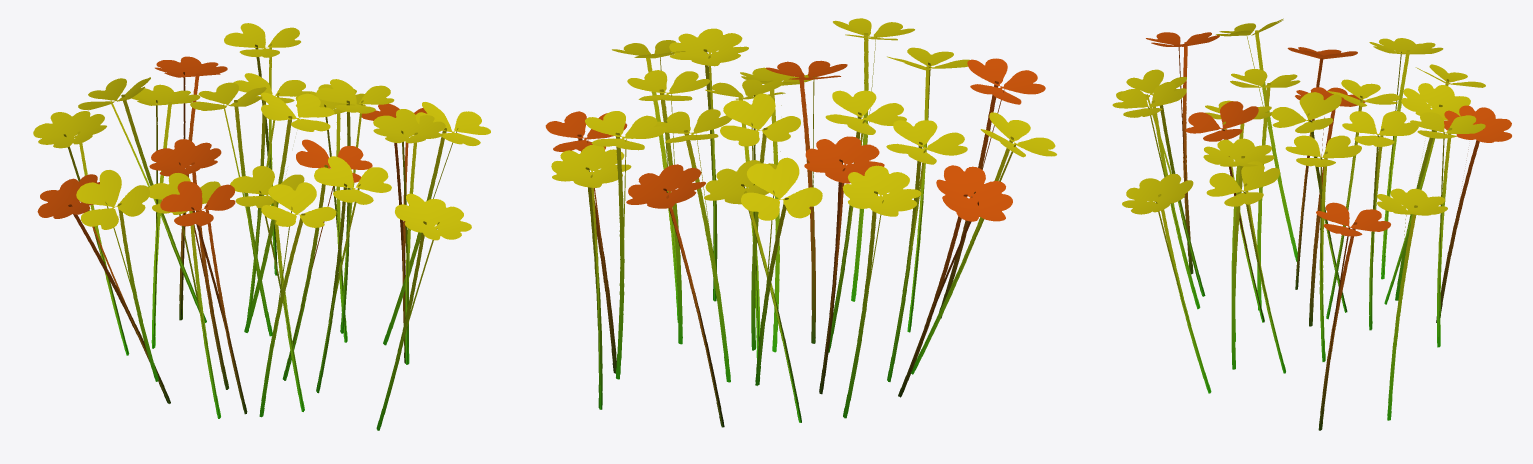
The model's file is CloverPatch_Mid_B.FBX.
3 renders of one model, left to right at view 1: azimuth 30°, elevation 25°; view 2: azimuth 150°, elevation 25°; view 3: azimuth 270°, elevation 25°, orthographic. The views are drawn at different scales.
Parts seen in each view (by area): view 1: CloverPatch_Mid_B; view 2: CloverPatch_Mid_B; view 3: CloverPatch_Mid_B.
Part boxes in pixels (box(x1,y1,x2,y2)): CloverPatch_Mid_B: box(33, 23, 490, 430); CloverPatch_Mid_B: box(545, 18, 1056, 427); CloverPatch_Mid_B: box(1112, 18, 1511, 430).
Size of the model in its own units: 1.25 by 0.8679 by 1.12.
